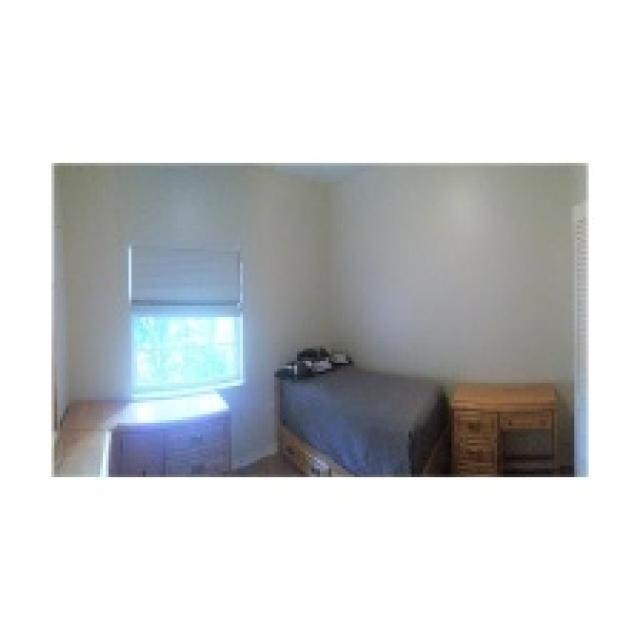Bed: (272, 360, 448, 474)
